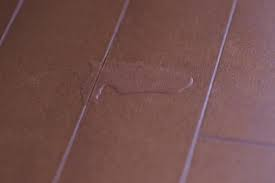Wet-floor: (82, 50, 193, 113)
